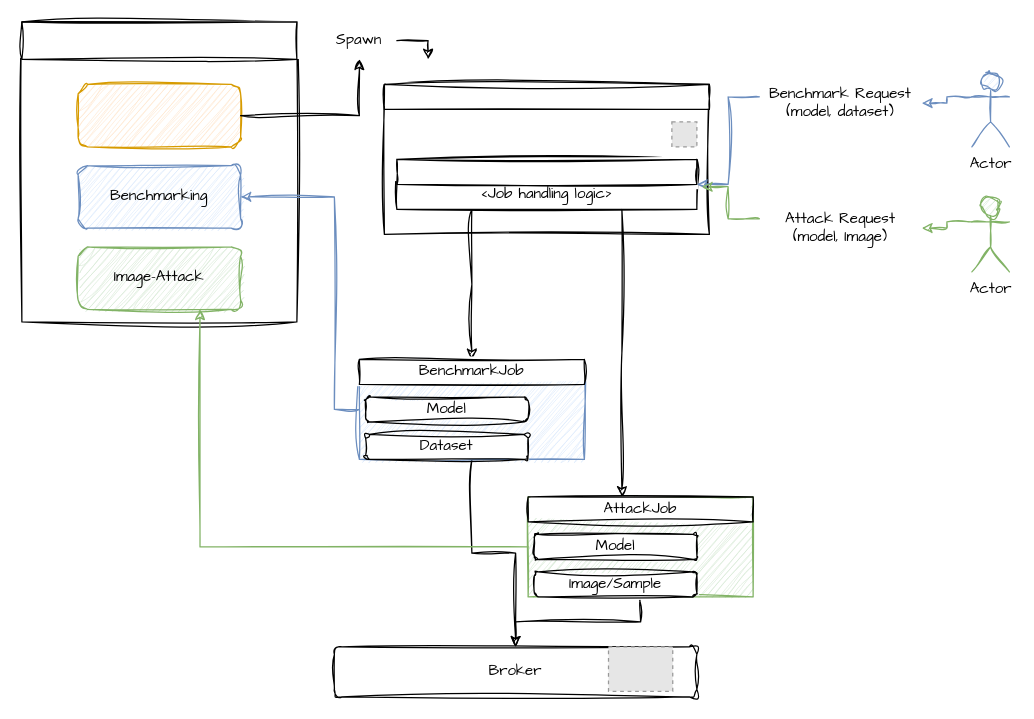
This 1034x719 diagram has some shape labels left out. Grey dashed boxes stand in for pictures. Each missing label, with the centre of its shape:
nn_trust_apps: (159,40)
Start Job: (546,171)
Titann Backend Server: (546,96)
Titann-Server: (159,115)
